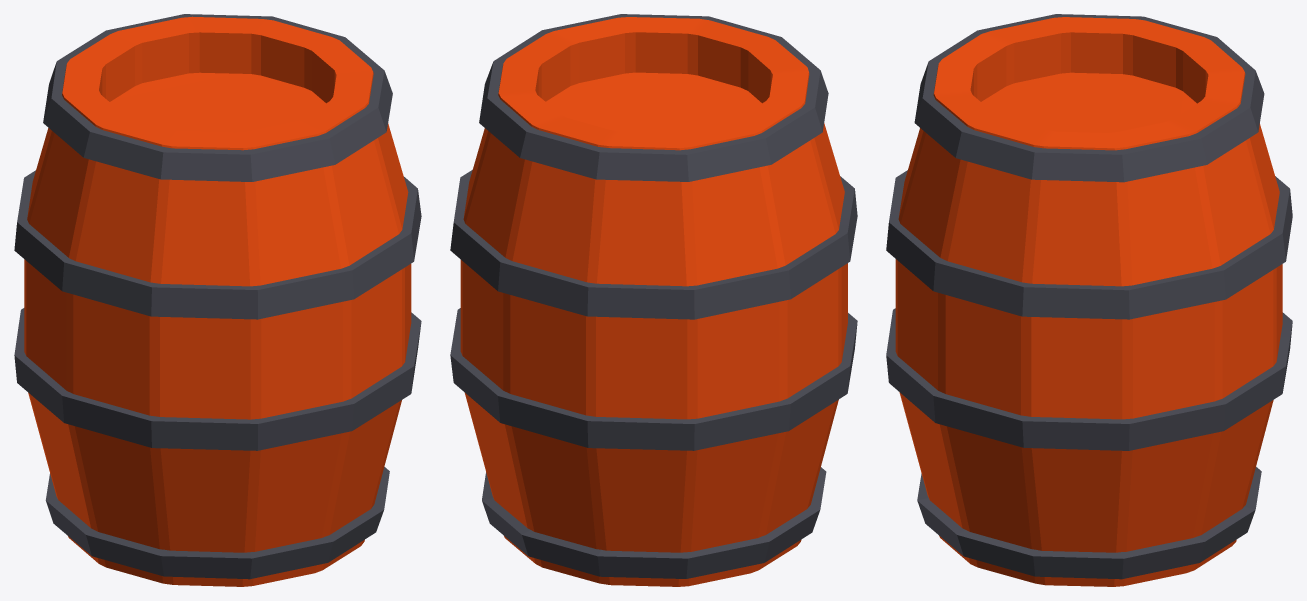
The model's file is Barrel_4.fbx.
The picture shows the model from 3 angles, left to right: view 1: azimuth 30°, elevation 25°; view 2: azimuth 150°, elevation 25°; view 3: azimuth 270°, elevation 25°; orthographic projection.
Visible parts, largest first — view 1: Barrel_4; view 2: Barrel_4; view 3: Barrel_4.
Boxes of the visible parts, <box> form: Barrel_4: <box>14,14,421,586</box>; Barrel_4: <box>450,14,857,586</box>; Barrel_4: <box>886,14,1292,586</box>.
Bounding box in the file's own units: 21.78 × 26.05 × 21.78.
